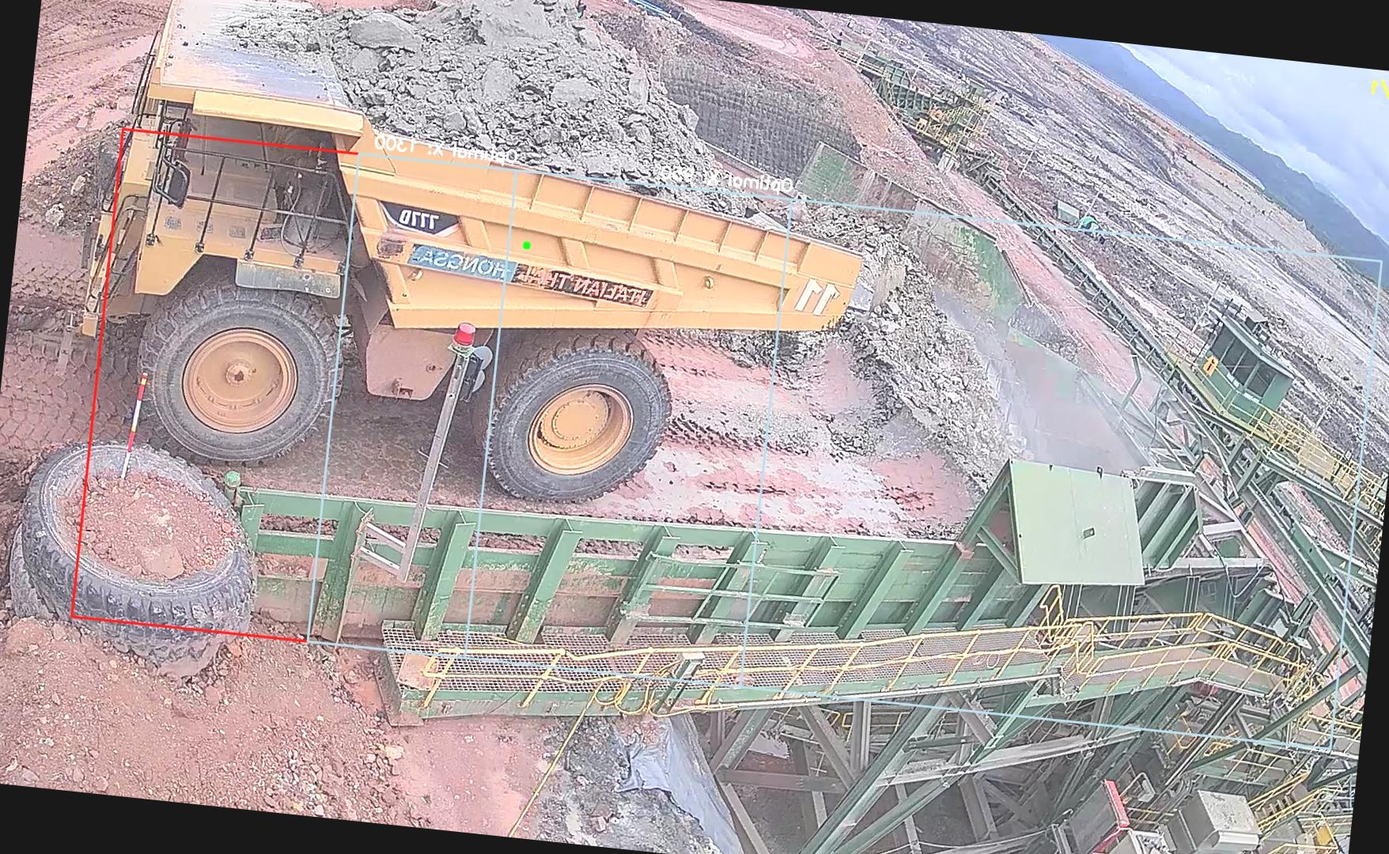company: (389, 238, 676, 312)
full_load: (354, 0, 728, 202)
mining_truck: (40, 0, 890, 531)
tail_number: (784, 270, 844, 325)
truck_size: (372, 196, 462, 241)
